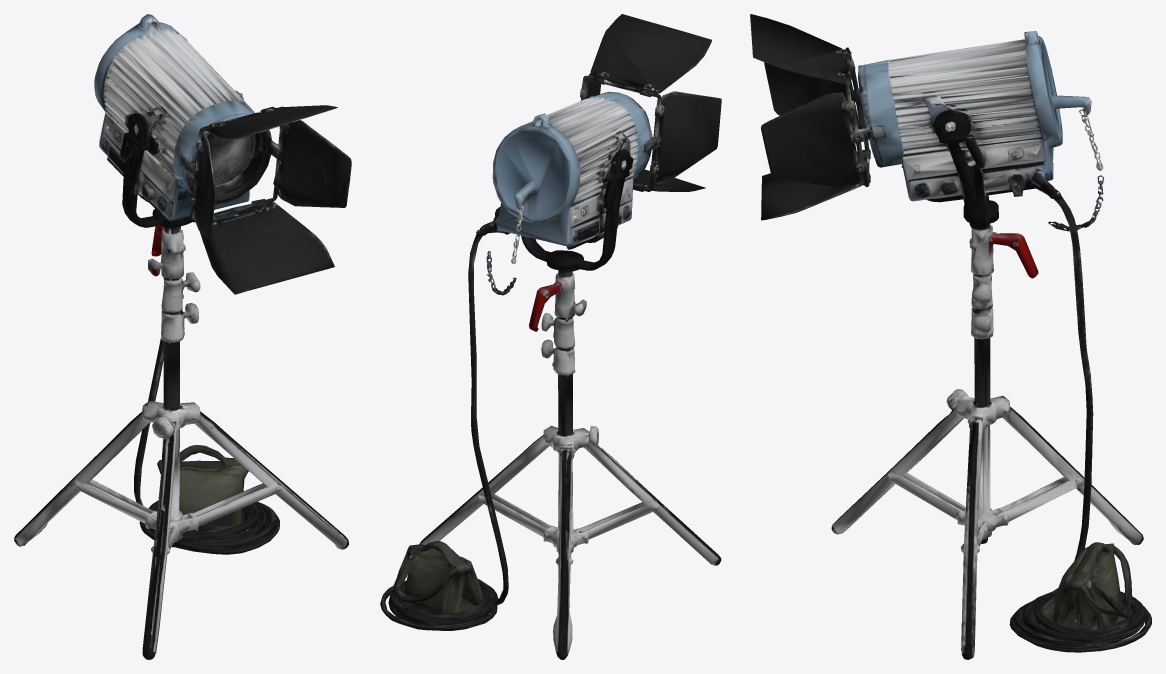
File: film_light.glb
3 views of the same model, side by side, from view 1: azimuth 30°, elevation 25°; view 2: azimuth 150°, elevation 25°; view 3: azimuth 270°, elevation 25° (orthographic). The views are drawn at different scales.
Visible parts, largest first — view 1: node_0; view 2: node_0; view 3: node_0.
Part boxes in pixels (bbox=[...]): node_0: bbox=[14, 14, 351, 659]; node_0: bbox=[380, 14, 721, 659]; node_0: bbox=[750, 14, 1151, 659].
Size of the model in its own units: 0.4948 by 0.9624 by 0.6361.
Materials: 1 (1 with a texture image).
